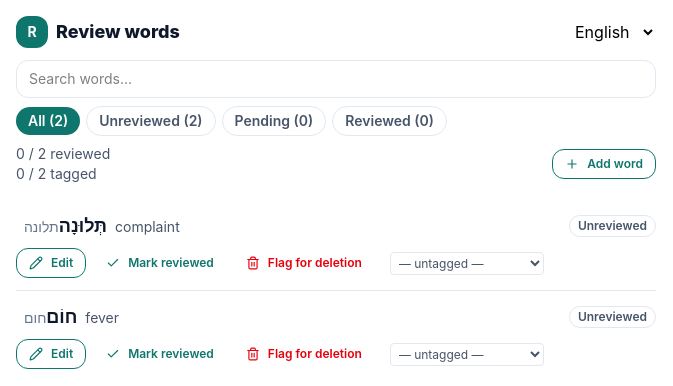
AdminDictionaryPage › search narrows the list
Expected: the text "תְּלוּנָה" is shown, [59,215,107,236]
Type "fever" into the search field.
click(336, 79); type("fever")  # box [16,60,656,98]
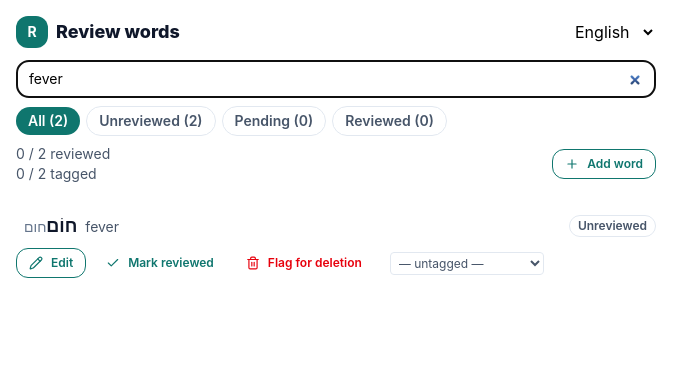
Expected: the text "חוֹם" is shown, [46,215,77,236]
Now the text "תְּלוּנָה" is gone
